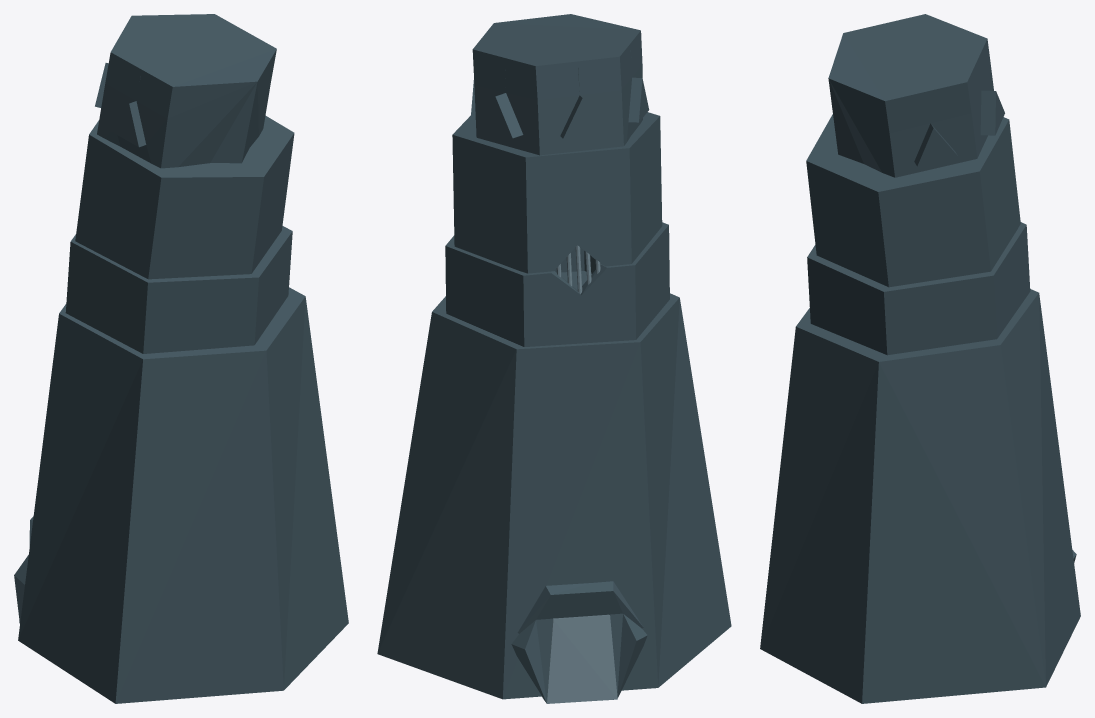
The picture shows the model from 3 angles, left to right: view 1: azimuth 30°, elevation 25°; view 2: azimuth 150°, elevation 25°; view 3: azimuth 270°, elevation 25°; orthographic projection.
Visible parts, largest first — view 1: group_1569555808, group_1248911004, group_762080226, group_1046710293, group_691478520; view 2: group_1569555808, group_1248911004, group_762080226, group_1046710293, group_691478520, group_2111483713; view 3: group_1569555808, group_1248911004, group_762080226, group_1046710293.
Part boxes in pixels (bbox=[...]): group_1569555808: bbox=[18, 287, 348, 703]; group_1248911004: bbox=[75, 115, 294, 279]; group_762080226: bbox=[95, 14, 276, 168]; group_1046710293: bbox=[65, 226, 292, 353]; group_691478520: bbox=[14, 516, 33, 623]; group_1569555808: bbox=[377, 271, 731, 699]; group_1248911004: bbox=[452, 112, 662, 273]; group_762080226: bbox=[470, 14, 649, 155]; group_1046710293: bbox=[445, 222, 669, 346]; group_691478520: bbox=[511, 581, 647, 703]; group_2111483713: bbox=[547, 614, 617, 703]; group_1569555808: bbox=[760, 289, 1080, 703]; group_1248911004: bbox=[806, 114, 1020, 287]; group_762080226: bbox=[828, 14, 1004, 177]; group_1046710293: bbox=[807, 222, 1030, 355].
Size of the model in its own units: 40.55 by 85.57 by 42.
